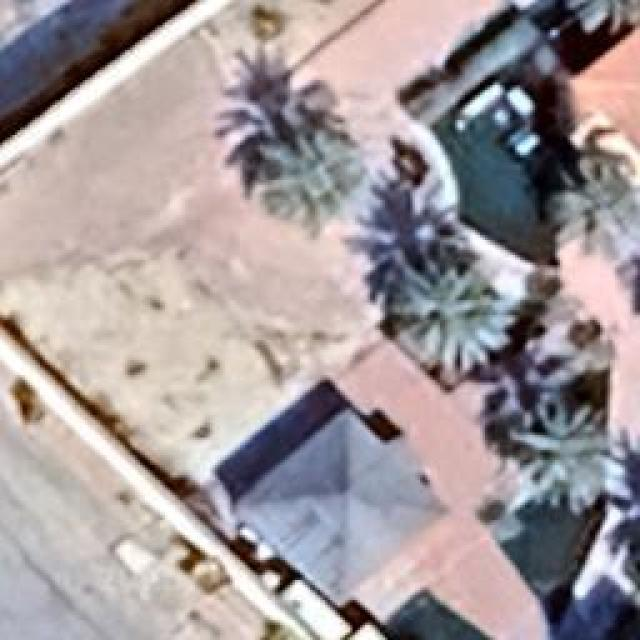PalmTree: (392, 252, 510, 378), (248, 116, 382, 224), (508, 400, 618, 510), (550, 135, 638, 263), (508, 318, 588, 408), (560, 0, 638, 38)
